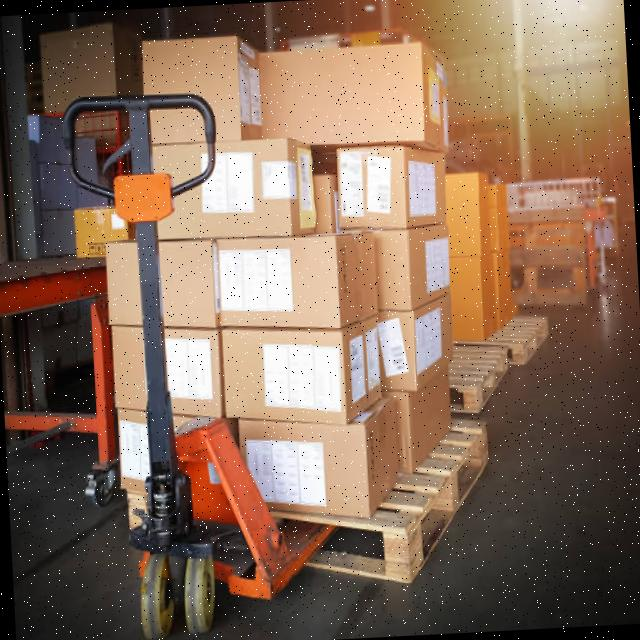Wooden-Pallets: (393, 415, 504, 600), (461, 342, 522, 420), (509, 306, 563, 373)
